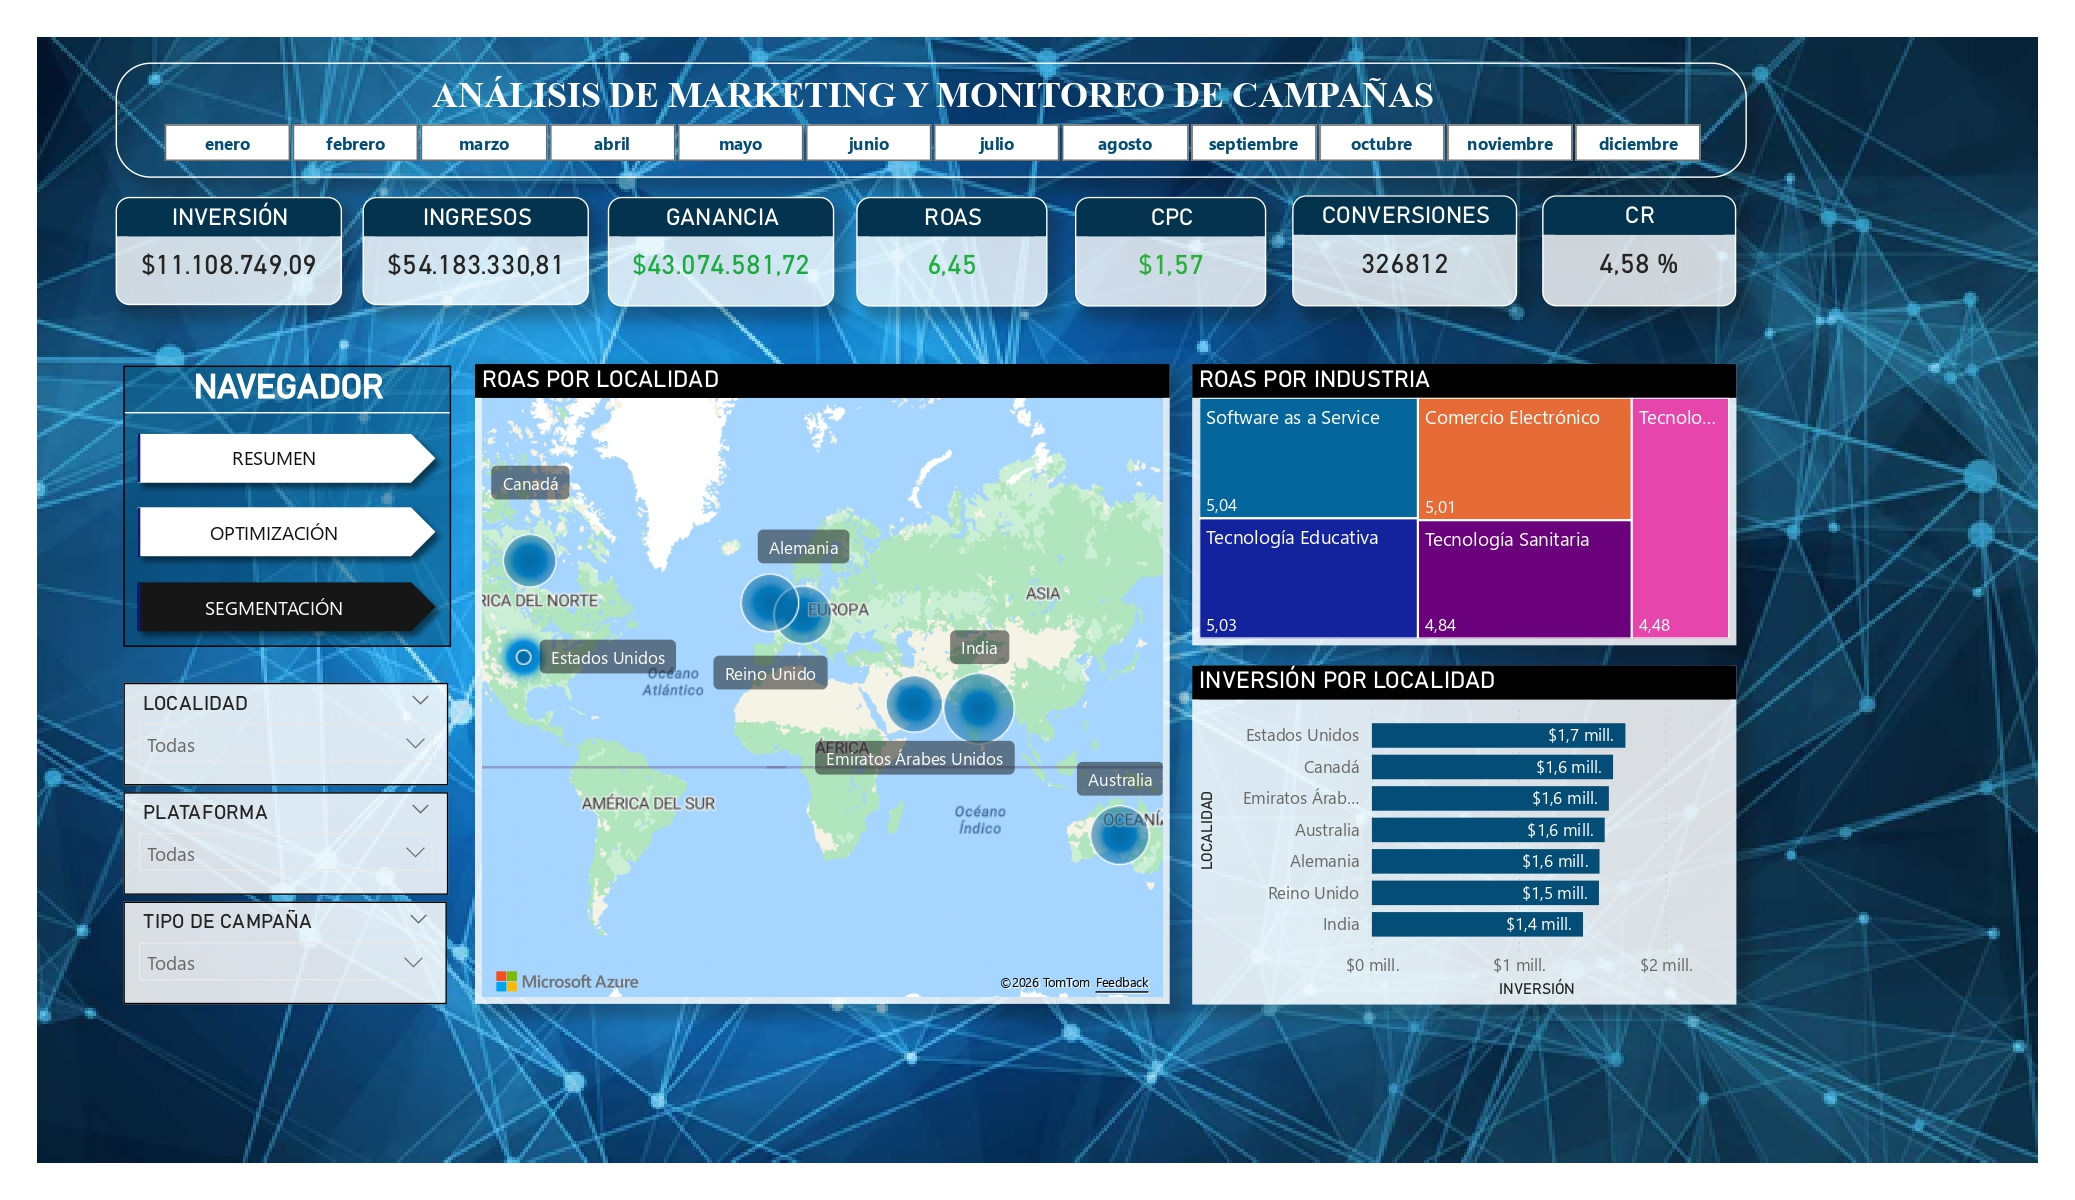

What the dashboard file says about the page in this screenshot:
{"tool":"powerbi","page":{"name":"SEGMENTACIÓN","canvas":[1280,720],"ordinal":2},"visuals":[{"type":"azureMap","title":"RENTABILIDAD POR PAÍS","fields":{"Location":["dim_localidad.LOCALIDAD"],"Size":["Medidas.KPI_ROAS"],"Category":["dim_localidad.LOCALIDAD"]},"box":[311.7,232.3,493.9,455],"z":1000},{"type":"treemap","title":"ROAS POR INDUSTRIA","fields":{"Group":["dim_industria.INDUSTRIA"],"Values":["Medidas.KPI_ROAS"]},"box":[820.9,232.3,386.8,200.3],"z":2000},{"type":"clusteredBarChart","title":"INVERSIÓN POR LOCALIDAD","fields":{"Category":["dim_localidad.LOCALIDAD"],"Y":["Medidas.sumInversion"]},"box":[821.1,446.7,386.7,241.1],"z":3000},{"type":"pageNavigator","title":"NAVEGADOR","box":[61.4,232.9,232.9,200],"z":4000},{"type":"slicer","fields":{"Values":["dim_plataforma.PLATAFORMA"]},"box":[61.2,536.2,231.2,72.5],"z":5000},{"type":"slicer","fields":{"Values":["dim_localidad.LOCALIDAD"]},"box":[61.2,458.8,231.2,72.5],"z":6000},{"type":"slicer","fields":{"Values":["dim_campaña.T_CAMPAÑA"]},"box":[60.8,614.8,230,72.5],"z":7000},{"type":"card","title":"INVERSIÓN","fields":{"Values":["Sum(Marketing.INVERSION)"]},"box":[56,113,161,77],"z":8000},{"type":"card","title":"INGRESOS","fields":{"Values":["Medidas.Ingresos"]},"box":[231,113,161,77],"z":9000},{"type":"card","title":"CONVERSIONES","fields":{"Values":["Sum(Marketing.CONVERSIONES)"]},"box":[892.5,112.5,160,78.8],"z":10000},{"type":"card","title":"ROAS","fields":{"Values":["Avg(Marketing.ROAS_Registro)"]},"box":[582.5,113.8,136.2,77.5],"z":11000},{"type":"card","title":"CR","fields":{"Values":["Medidas.TASA CONVERSION"]},"box":[1070,112.5,137.5,78.8],"z":12000},{"type":"card","title":"PROFIT","fields":{"Values":["Medidas.Profit"]},"box":[405,113,161,78],"z":13000},{"type":"card","title":"CPC","fields":{"Values":["Avg(Marketing.CPC_Registro)"]},"box":[737.5,113.8,136.2,77.5],"z":14000},{"type":"slicer","title":"ANÁLISIS DE MARKETING Y MONITOREO DE CAMPAÑAS","fields":{"Values":["dim_fecha.Date.Variación.Jerarquía de fechas.Mes"]},"box":[55.7,18.1,1160.3,82.1],"z":15000}]}

Visuals, with their boxes on the page's 1280x720 design canvas (x1, y1, x2, y2). These are canvas units, not pixel positions in the 2075x1200 screenshot, which may show the page scaled, cropped or inside an application window:
"RENTABILIDAD POR PAÍS" azureMap: Rect(312, 232, 806, 687)
"ROAS POR INDUSTRIA" treemap: Rect(821, 232, 1208, 433)
"INVERSIÓN POR LOCALIDAD" clusteredBarChart: Rect(821, 447, 1208, 688)
"NAVEGADOR" pageNavigator: Rect(61, 233, 294, 433)
slicer - dim_plataforma.PLATAFORMA: Rect(61, 536, 292, 609)
slicer - dim_localidad.LOCALIDAD: Rect(61, 459, 292, 531)
slicer - dim_campaña.T_CAMPAÑA: Rect(61, 615, 291, 687)
"INVERSIÓN" card: Rect(56, 113, 217, 190)
"INGRESOS" card: Rect(231, 113, 392, 190)
"CONVERSIONES" card: Rect(892, 112, 1052, 191)
"ROAS" card: Rect(582, 114, 719, 191)
"CR" card: Rect(1070, 112, 1208, 191)
"PROFIT" card: Rect(405, 113, 566, 191)
"CPC" card: Rect(738, 114, 874, 191)
"ANÁLISIS DE MARKETING Y MONITOREO DE CAMPAÑAS" slicer: Rect(56, 18, 1216, 100)
